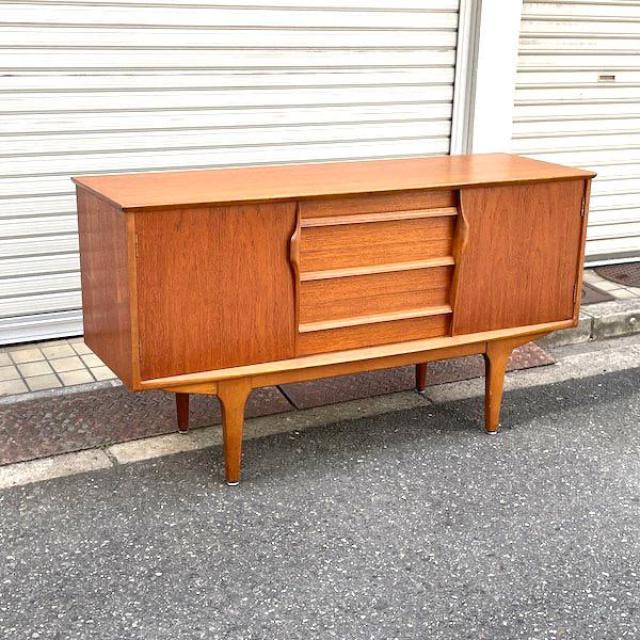vintage shelf: (56, 148, 593, 488)
